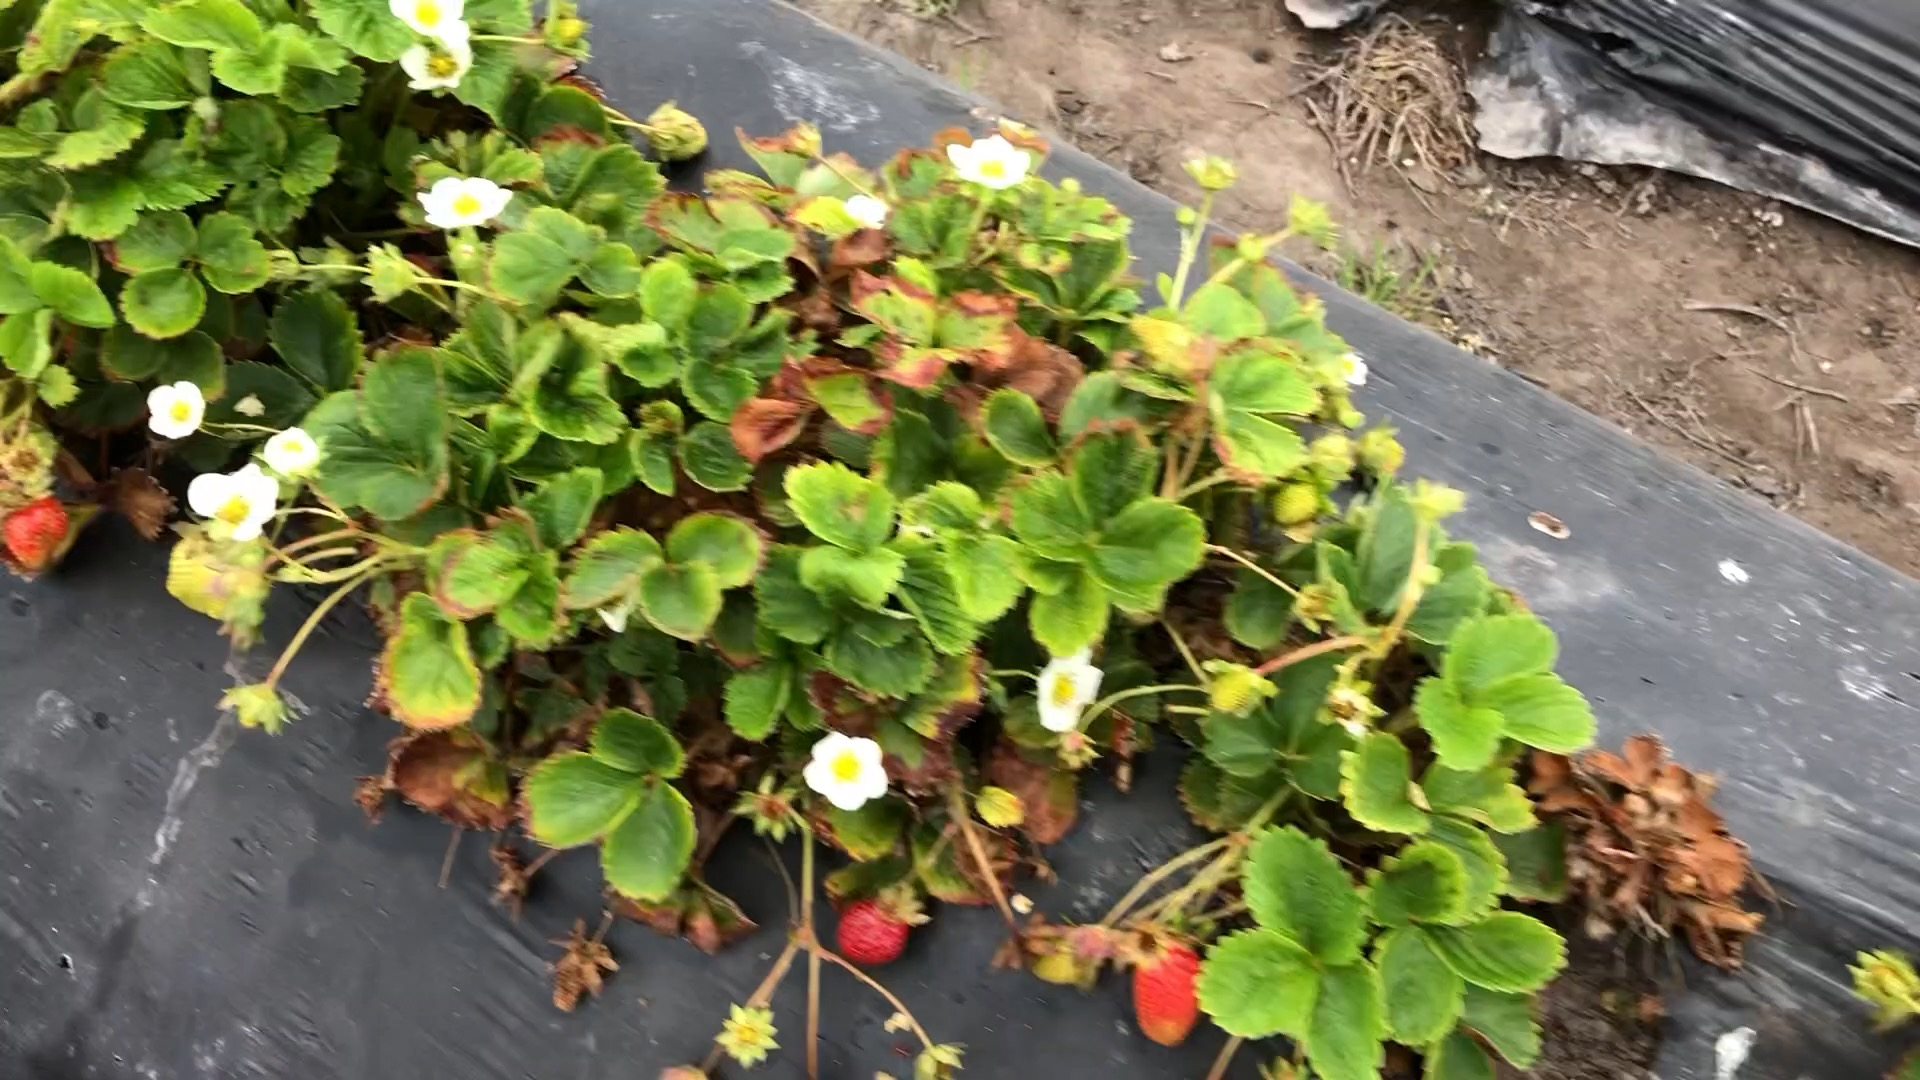ripe_strawberry: (1129, 934, 1205, 1048), (1, 488, 75, 574), (837, 891, 907, 967)
unripe_strawberry: (1125, 307, 1203, 369), (645, 105, 712, 164), (1029, 942, 1097, 986), (1269, 479, 1327, 529), (1211, 667, 1261, 717), (542, 15, 592, 47)
